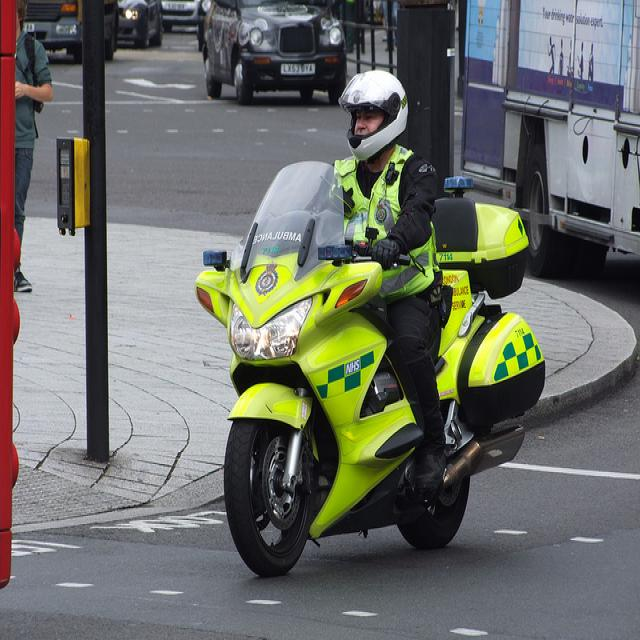motor: (194, 161, 545, 560)
